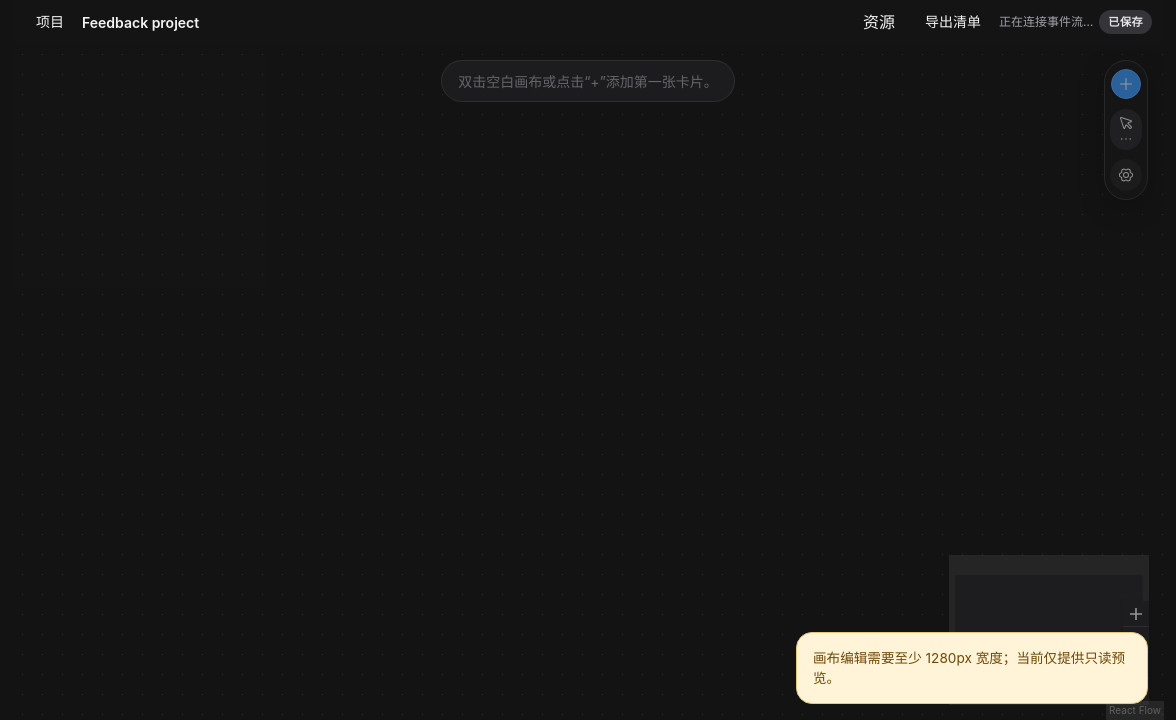
Test case: ProjectWorkspacePage › dismisses a failed media creation notice and shows a later failure again
The width and height of the screenshot is (1176, 720).
Check: the heading "Feedback project" is shown, box [82,12,199,32]
Click the button named "添加卡片" at (1126, 84), box [1111,69,1141,99]
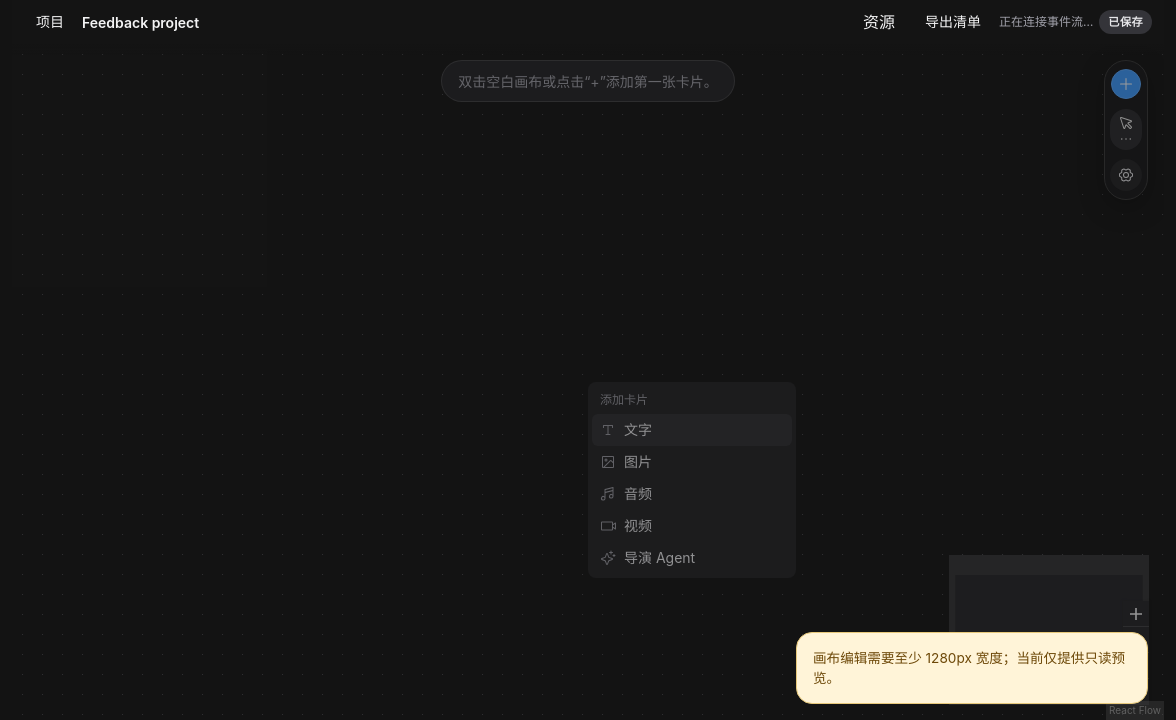
Click the option "图片" at (626, 462), box [600,453,652,470]
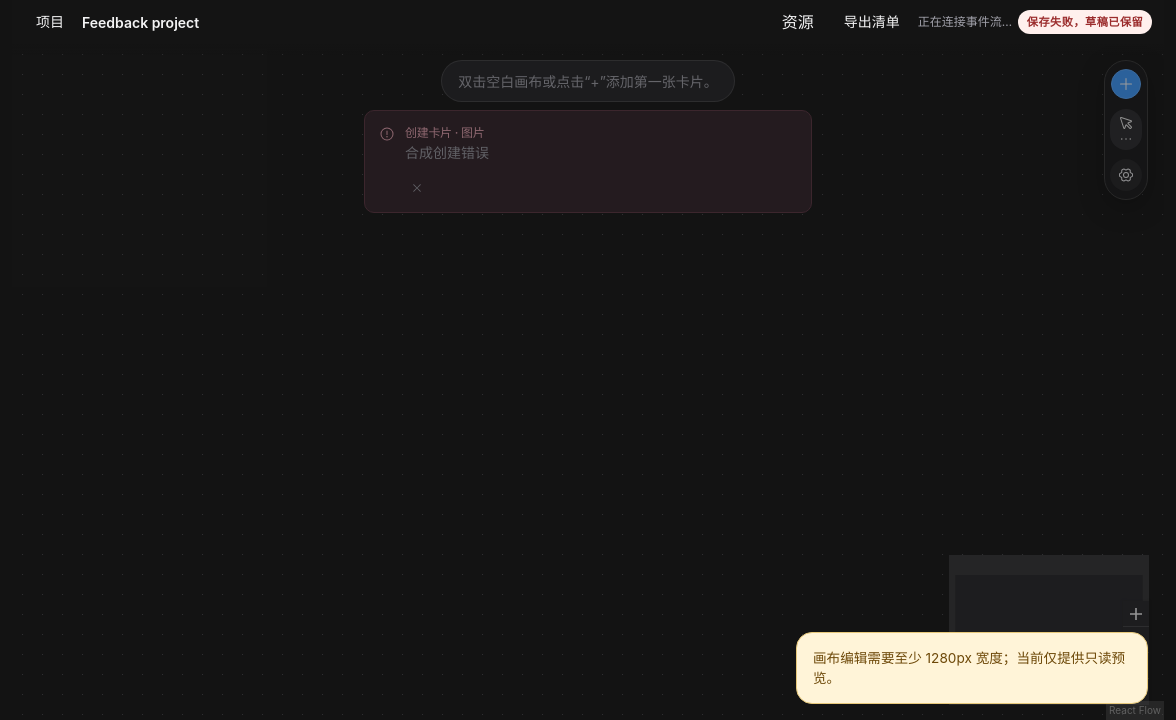
Check: the text "创建卡片 · 图片" is shown, box [405,123,489,142]
Click the button named "关闭提示" at (417, 188), box [405,176,429,200]
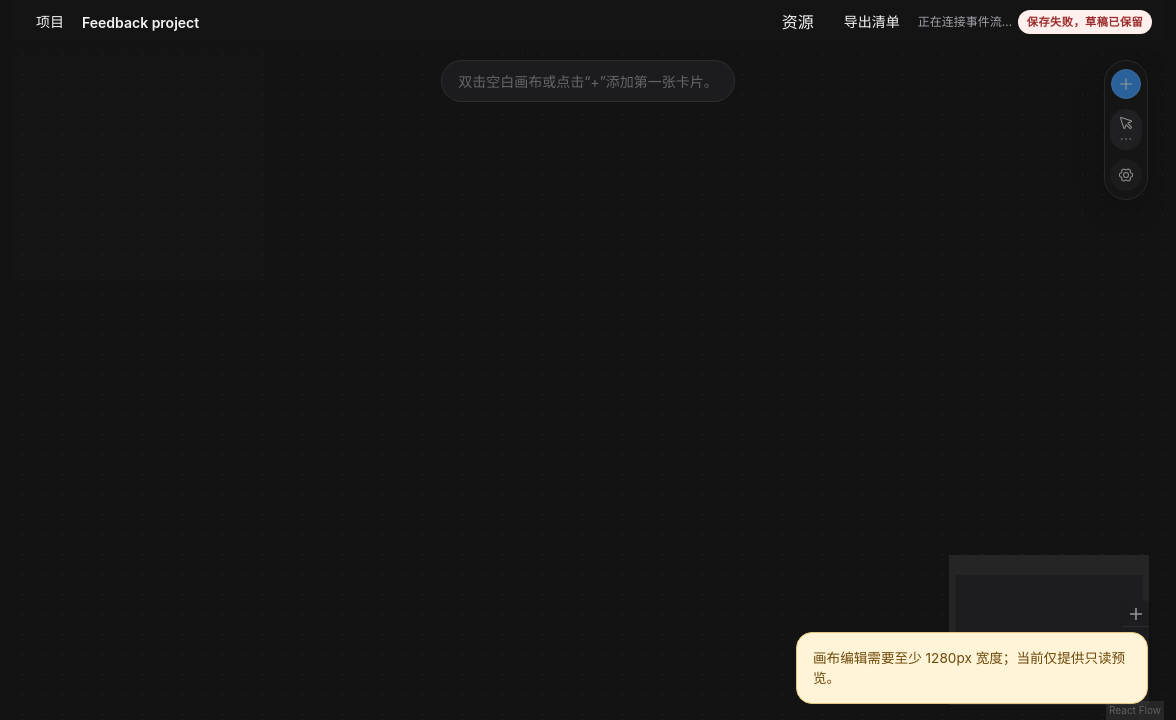
Check: the text "合成创建错误" is gone
Click the button named "添加卡片" at (1126, 84), box [1111,69,1141,99]
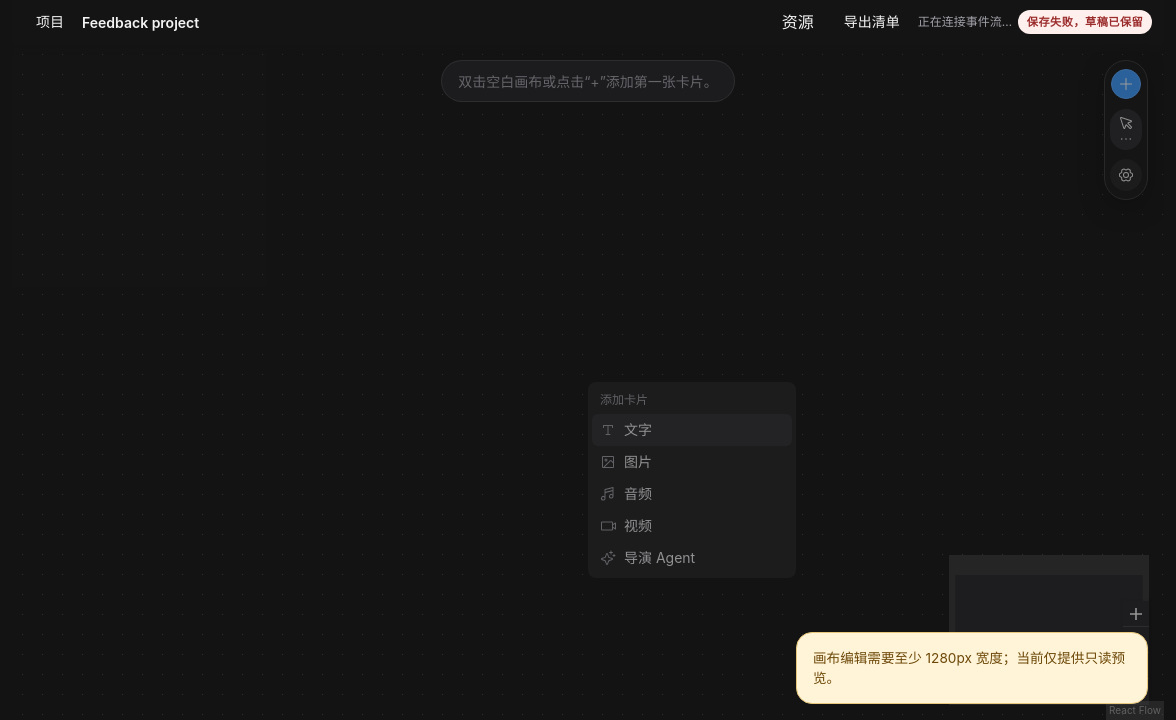
Click the option "图片" at (626, 462), box [600,453,652,470]
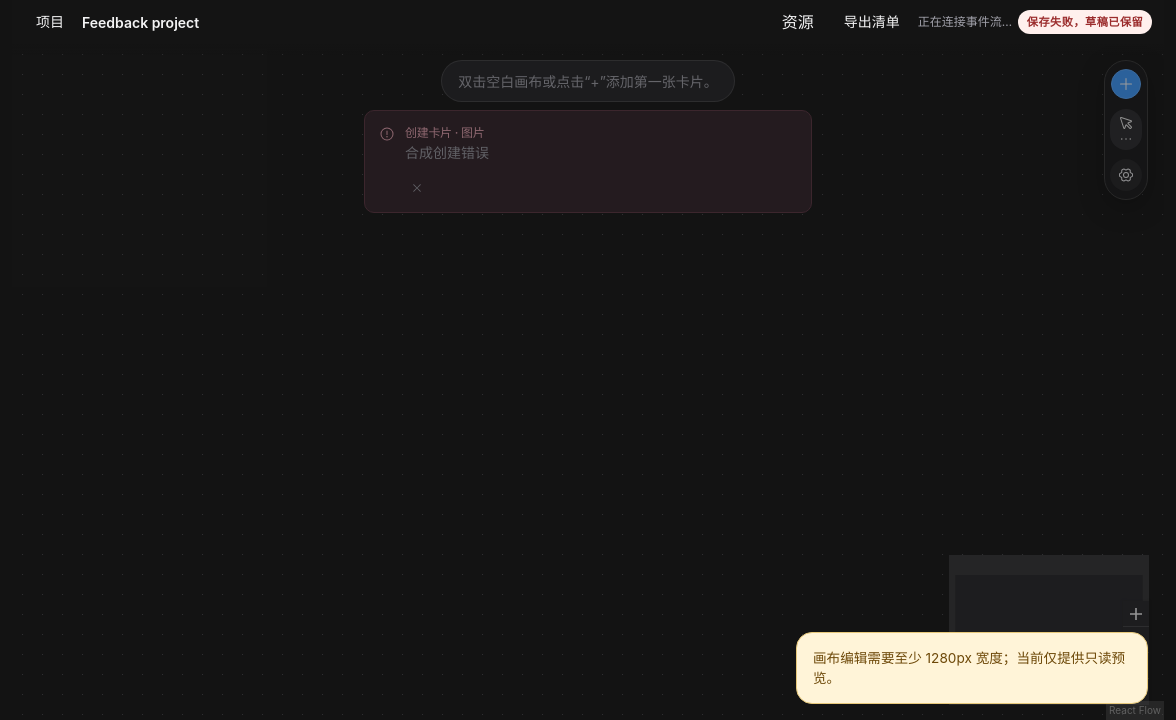
Check: the text "创建卡片 · 图片" is shown, box [405,123,489,142]
Click the button named "关闭提示" at (417, 188), box [405,176,429,200]
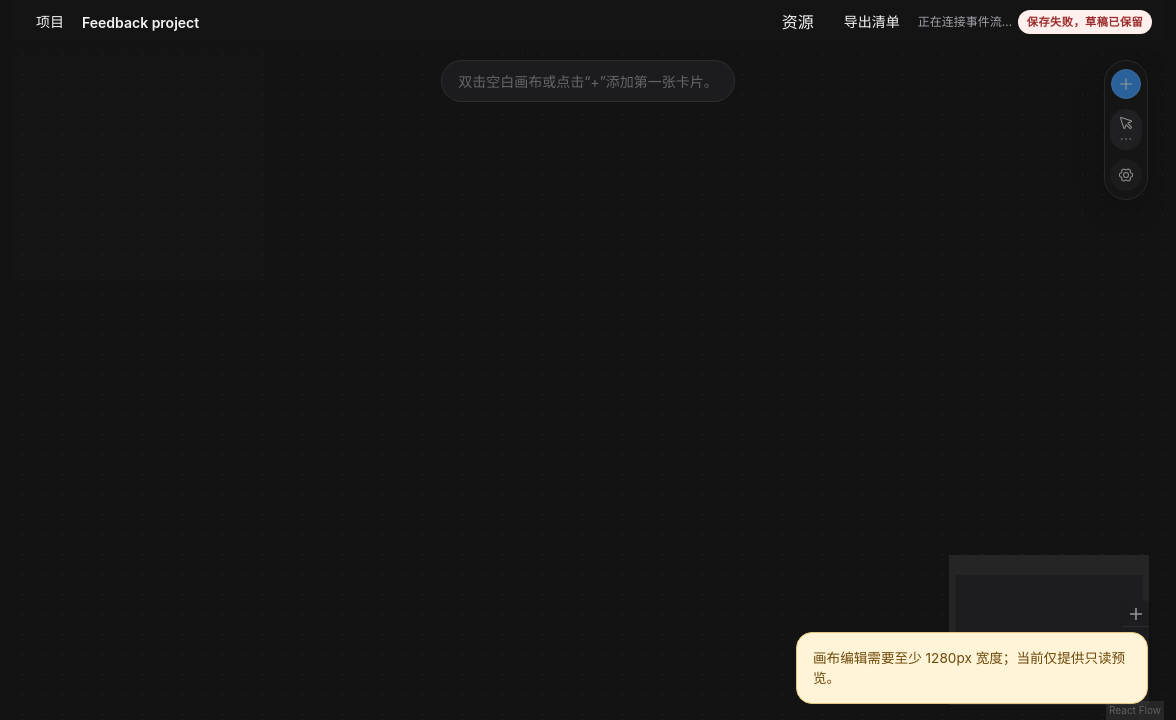
Check: the text "合成创建错误" is gone
